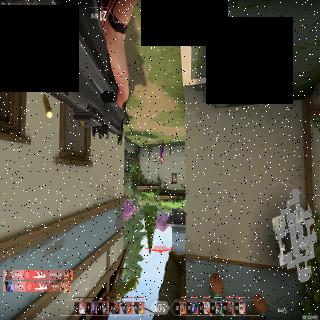ENEMY-BODY: (158, 138, 164, 166)
ENEMY-HEAD: (160, 161, 162, 165)
